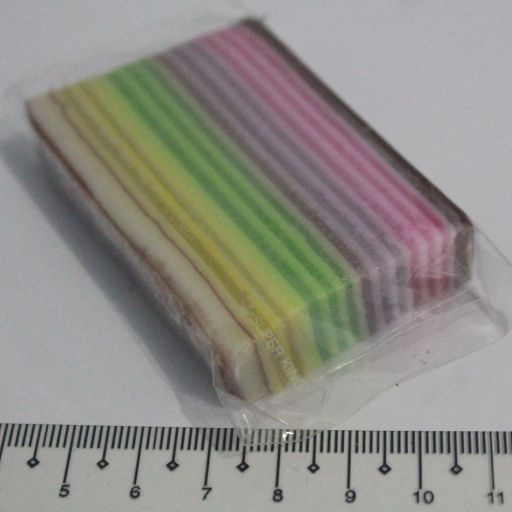kue_lapis_pelangi: (25, 13, 472, 406)
